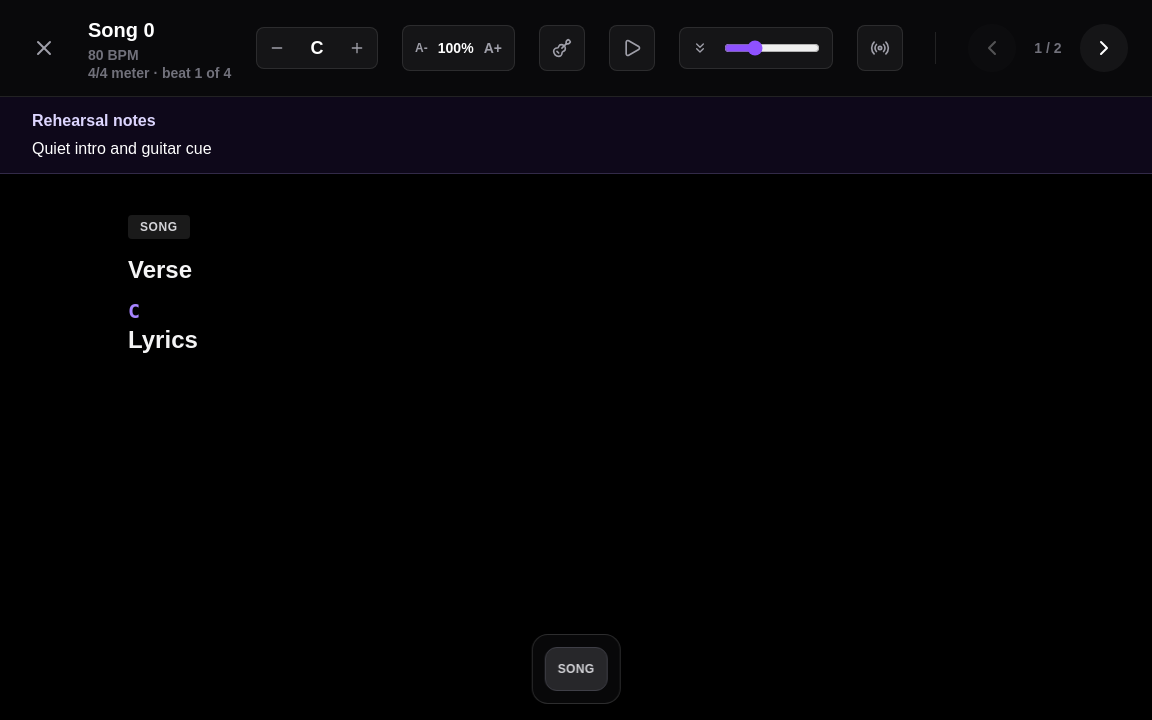
Test case: shows saved notes for the active setlist slot and changes them with the song
This screenshot has width=1152, height=720.
Expected: the element "Rehearsal notes" shows "Quiet intro and guitar cue", x1=32 y1=140 x2=212 y2=157
Click the button named "Next song".
click(1104, 48)  # box x1=1080 y1=24 x2=1128 y2=72
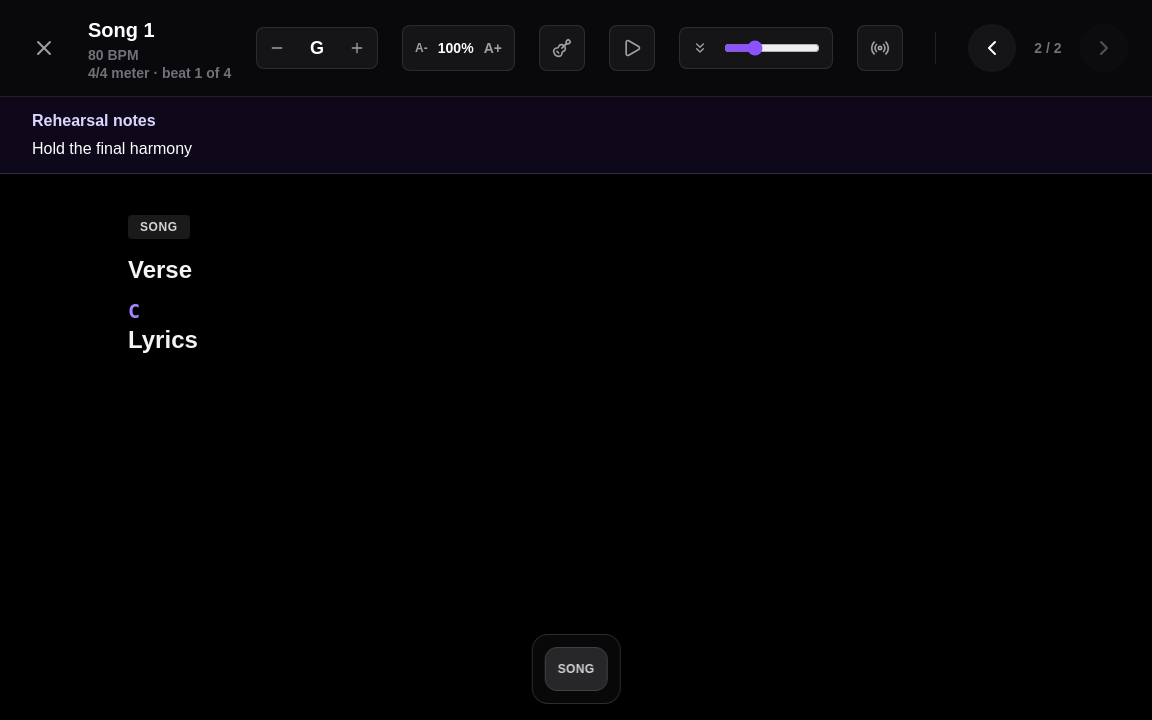
Now the element "Rehearsal notes" shows "Hold the final harmony", box x1=32 y1=140 x2=192 y2=157
Now the text "Quiet intro and guitar cue" is gone
